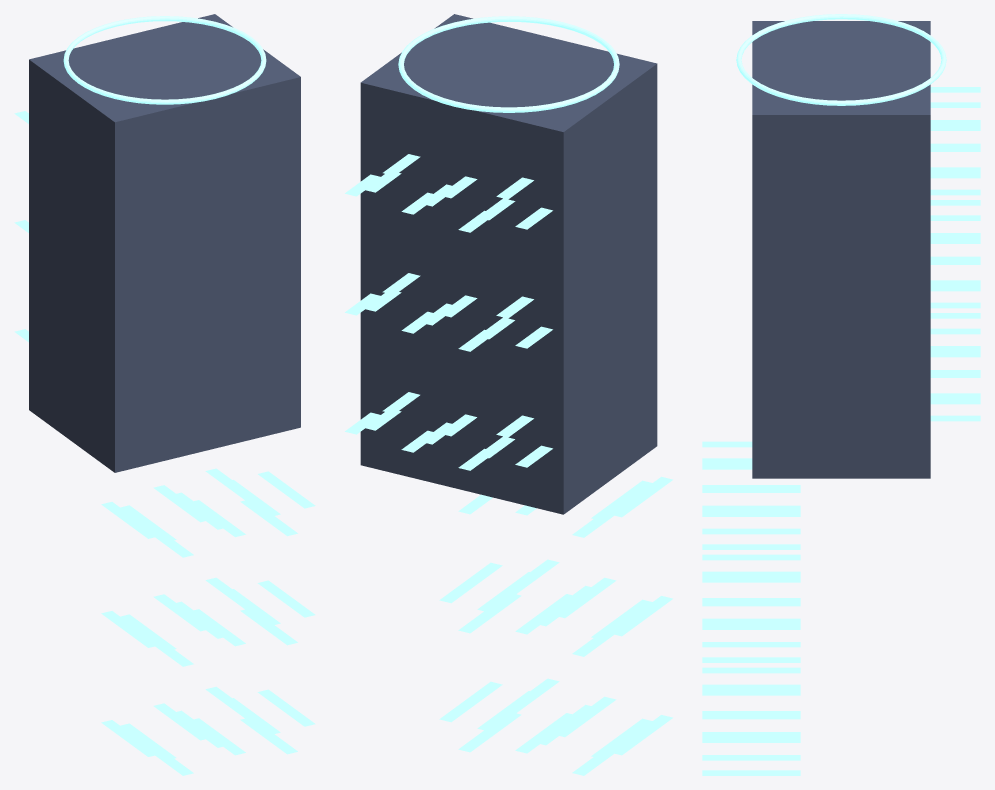
The model's file is tech_hub.glb.
The picture shows the model from 3 angles, left to right: view 1: azimuth 30°, elevation 25°; view 2: azimuth 150°, elevation 25°; view 3: azimuth 270°, elevation 25°; orthographic projection. The views are drawn at different scales.
Parts seen in each view (by area): view 1: body, ring, glass.030, glass.040, glass.032, glass.041, glass.049, glass.031, glass.039, glass.050, glass.057, glass.048 (+2 smaller); view 2: body, ring, glass.032, glass.031, glass.049, glass.050, glass.040, glass.041, glass.057, glass.059, glass.058, glass.054 (+2 smaller); view 3: body, ring, glass.030, glass.042, glass.043, glass.058, glass.059, glass.031, glass.032, glass.033, glass.034, glass.035 (+11 smaller).
Part boxes in pixels (left/top/right/bottom): body: left=29, top=14, right=300, bottom=472; ring: left=63, top=16, right=266, bottom=104; glass.030: left=258, top=471, right=315, bottom=508; glass.040: left=205, top=577, right=263, bottom=614; glass.032: left=257, top=689, right=315, bottom=726; glass.041: left=205, top=686, right=263, bottom=723; glass.049: left=153, top=594, right=211, bottom=631; glass.031: left=257, top=580, right=315, bottom=617; glass.039: left=205, top=468, right=262, bottom=505; glass.050: left=153, top=703, right=211, bottom=740; glass.057: left=101, top=502, right=158, bottom=538; glass.048: left=153, top=485, right=210, bottom=522; body: left=360, top=14, right=657, bottom=514; ring: left=398, top=16, right=619, bottom=112; glass.032: left=439, top=681, right=502, bottom=722; glass.031: left=439, top=562, right=502, bottom=603; glass.049: left=553, top=577, right=616, bottom=618; glass.050: left=553, top=696, right=616, bottom=737; glass.040: left=496, top=559, right=559, bottom=599; glass.041: left=496, top=678, right=559, bottom=718; glass.057: left=610, top=476, right=672, bottom=517; glass.059: left=610, top=715, right=672, bottom=755; glass.058: left=610, top=596, right=672, bottom=636; glass.054: left=591, top=480, right=652, bottom=521; body: left=752, top=21, right=930, bottom=478; ring: left=736, top=14, right=946, bottom=105; glass.030: left=702, top=528, right=800, bottom=534; glass.042: left=702, top=505, right=800, bottom=511; glass.043: left=702, top=618, right=800, bottom=624; glass.058: left=702, top=554, right=800, bottom=560; glass.059: left=702, top=667, right=800, bottom=673; glass.031: left=702, top=642, right=800, bottom=647; glass.032: left=702, top=755, right=800, bottom=760; glass.033: left=702, top=544, right=800, bottom=549; glass.034: left=702, top=657, right=800, bottom=662; glass.035: left=702, top=770, right=800, bottom=775.
Bounding box in the file's own units: 5 × 16.96 × 6.24.
